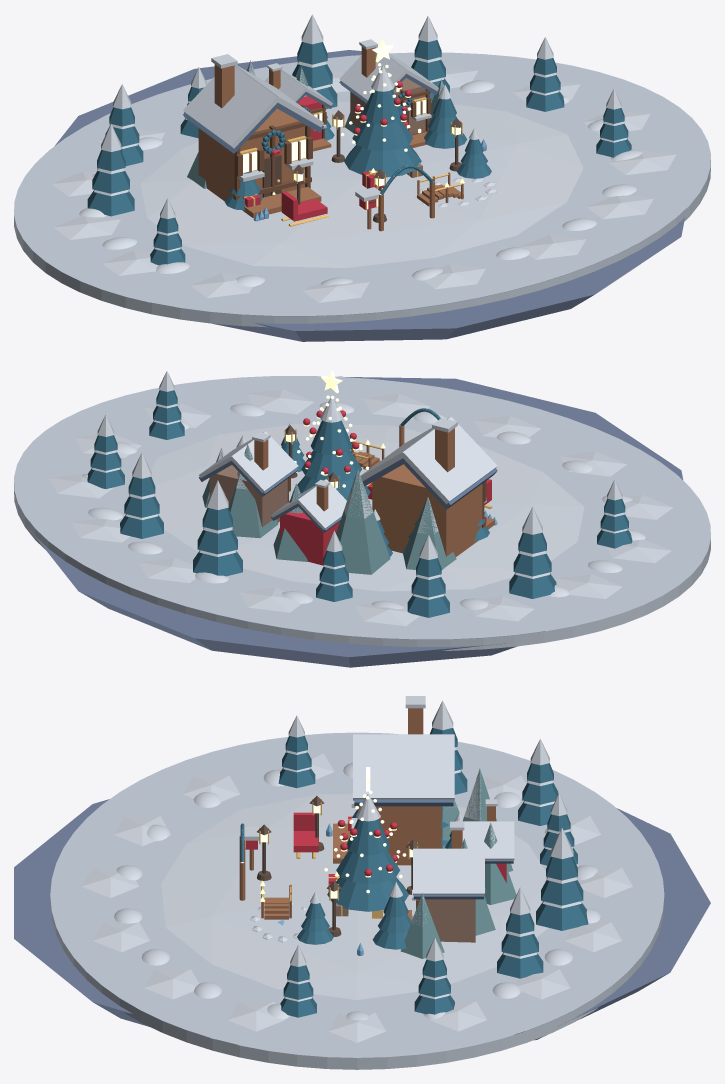
The model's file is alpine-lit.glb.
3 renders of one model, top to bottom at view 1: azimuth 30°, elevation 25°; view 2: azimuth 150°, elevation 25°; view 3: azimuth 270°, elevation 25°, orthographic. The views are drawn at different scales.
Parts seen in each view (by area): view 1: Continuous snow surface, Snow plateau, Floating island terrace, Full island snow blanket, Outer winter pine (×7), Roof snow, Cottage walls.001, Faceted pine, Faceted pine.001, Roof snow.002, Snow edge.013, Snow edge.007 (+16 smaller); view 2: Continuous snow surface, Snow plateau, Floating island terrace, Outer winter pine (×15), Alpine ridge (×4), Full island snow blanket, Cottage walls.001, Roof snow, Roof snow.002, Cottage walls, Cottage walls.002, Faceted pine.001 (+21 smaller); view 3: Continuous snow surface, Snow plateau, Floating island terrace, Full island snow blanket, Outer winter pine (×9), Roof snow.001, Alpine ridge (×4), Roof snow.003, Cottage walls.001, Cottage walls.002, Faceted pine, Roof snow.005 (+16 smaller).
Part boxes in pixels (x1,y1,x2,y2): Continuous snow surface: (14, 52, 710, 315); Snow plateau: (140, 101, 583, 267); Floating island terrace: (55, 50, 686, 341); Full island snow blanket: (14, 160, 710, 327); Outer winter pine (×7): (87, 42, 564, 216); Roof snow: (183, 66, 279, 148); Cottage walls.001: (198, 108, 304, 201); Faceted pine: (344, 144, 421, 177); Faceted pine.001: (352, 120, 413, 150); Roof snow.002: (339, 55, 407, 100); Snow edge.013: (586, 195, 653, 219); Snow edge.007: (53, 216, 120, 239); Continuous snow surface: (14, 376, 710, 639); Snow plateau: (151, 424, 584, 591); Floating island terrace: (27, 376, 683, 667); Outer winter pine (×15): (87, 421, 632, 617); Alpine ridge (×4): (228, 444, 456, 574); Full island snow blanket: (14, 483, 710, 650); Cottage walls.001: (372, 464, 482, 556); Roof snow: (400, 417, 497, 504); Roof snow.002: (230, 431, 298, 492); Cottage walls: (280, 512, 339, 565); Cottage walls.002: (209, 465, 287, 527); Faceted pine.001: (301, 450, 361, 481); Continuous snow surface: (50, 732, 664, 1057); Snow plateau: (161, 794, 548, 1000); Floating island terrace: (14, 799, 710, 1044); Full island snow blanket: (50, 898, 664, 1069); Outer winter pine (×9): (278, 768, 588, 1014); Roof snow.001: (353, 734, 454, 800); Alpine ridge (×4): (400, 768, 516, 958); Roof snow.003: (413, 848, 484, 895); Cottage walls.001: (375, 806, 441, 865); Cottage walls.002: (425, 899, 475, 942); Faceted pine: (327, 877, 408, 911); Roof snow.005: (462, 821, 514, 859).
Size of the model in its own units: 4.96 by 1.71 by 4.49.
